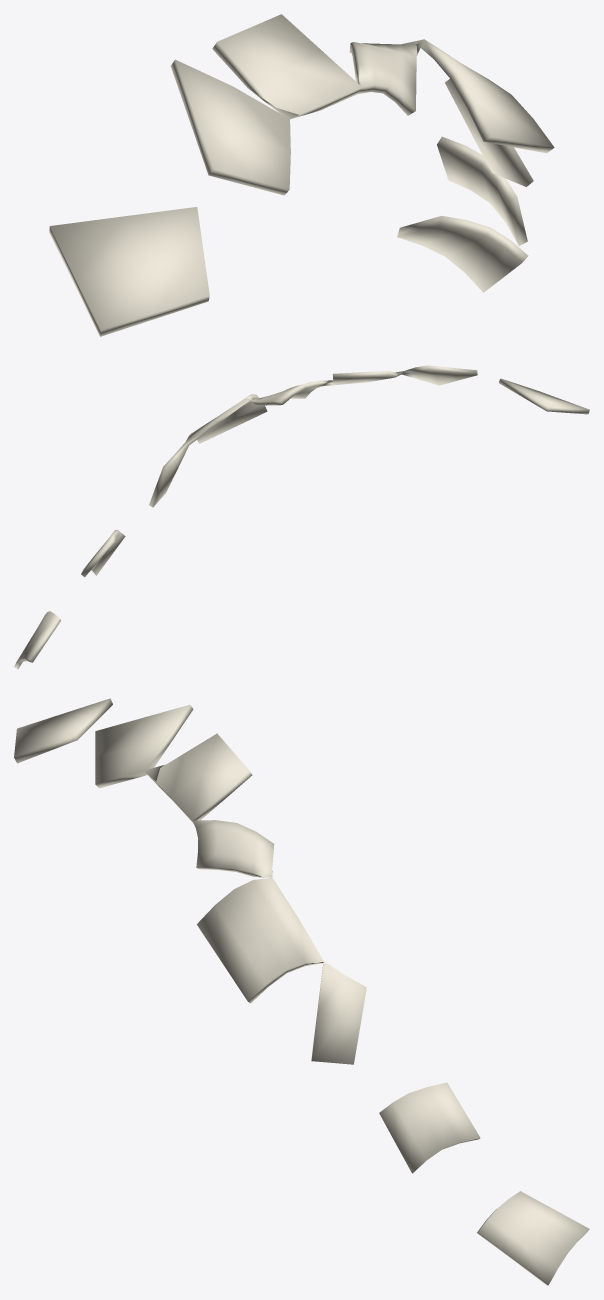
3 views of the same model, one above another, from view 1: azimuth 30°, elevation 25°; view 2: azimuth 150°, elevation 25°; view 3: azimuth 270°, elevation 25° (orthographic). The views are drawn at different scales.
Visible parts, largest first — view 1: ZA_dd8c695be5fe8693; view 2: ZA_dd8c695be5fe8693; view 3: ZA_dd8c695be5fe8693.
Boxes of the visible parts, x1,y1,x2,y2 form: ZA_dd8c695be5fe8693: (49,14,554,336); ZA_dd8c695be5fe8693: (14,365,589,669); ZA_dd8c695be5fe8693: (14,698,589,1285).
Size of the model in its own units: 0.0441 by 0.0306 by 0.041.
